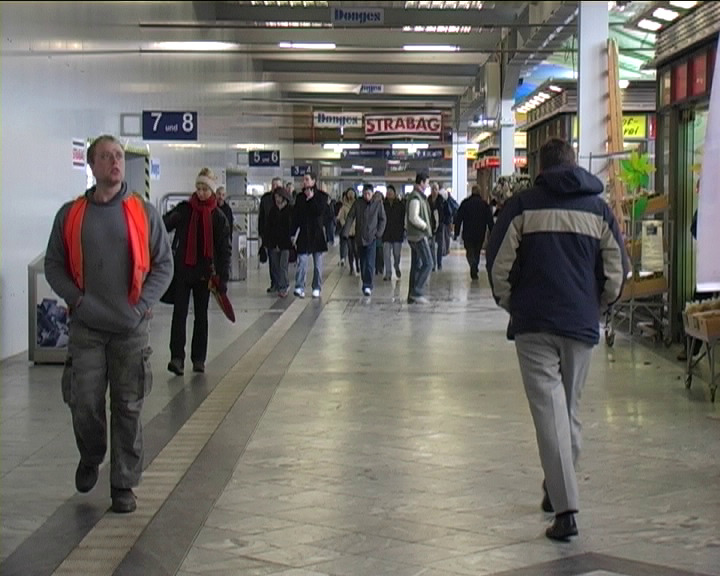deflection: (50, 134, 167, 274)
